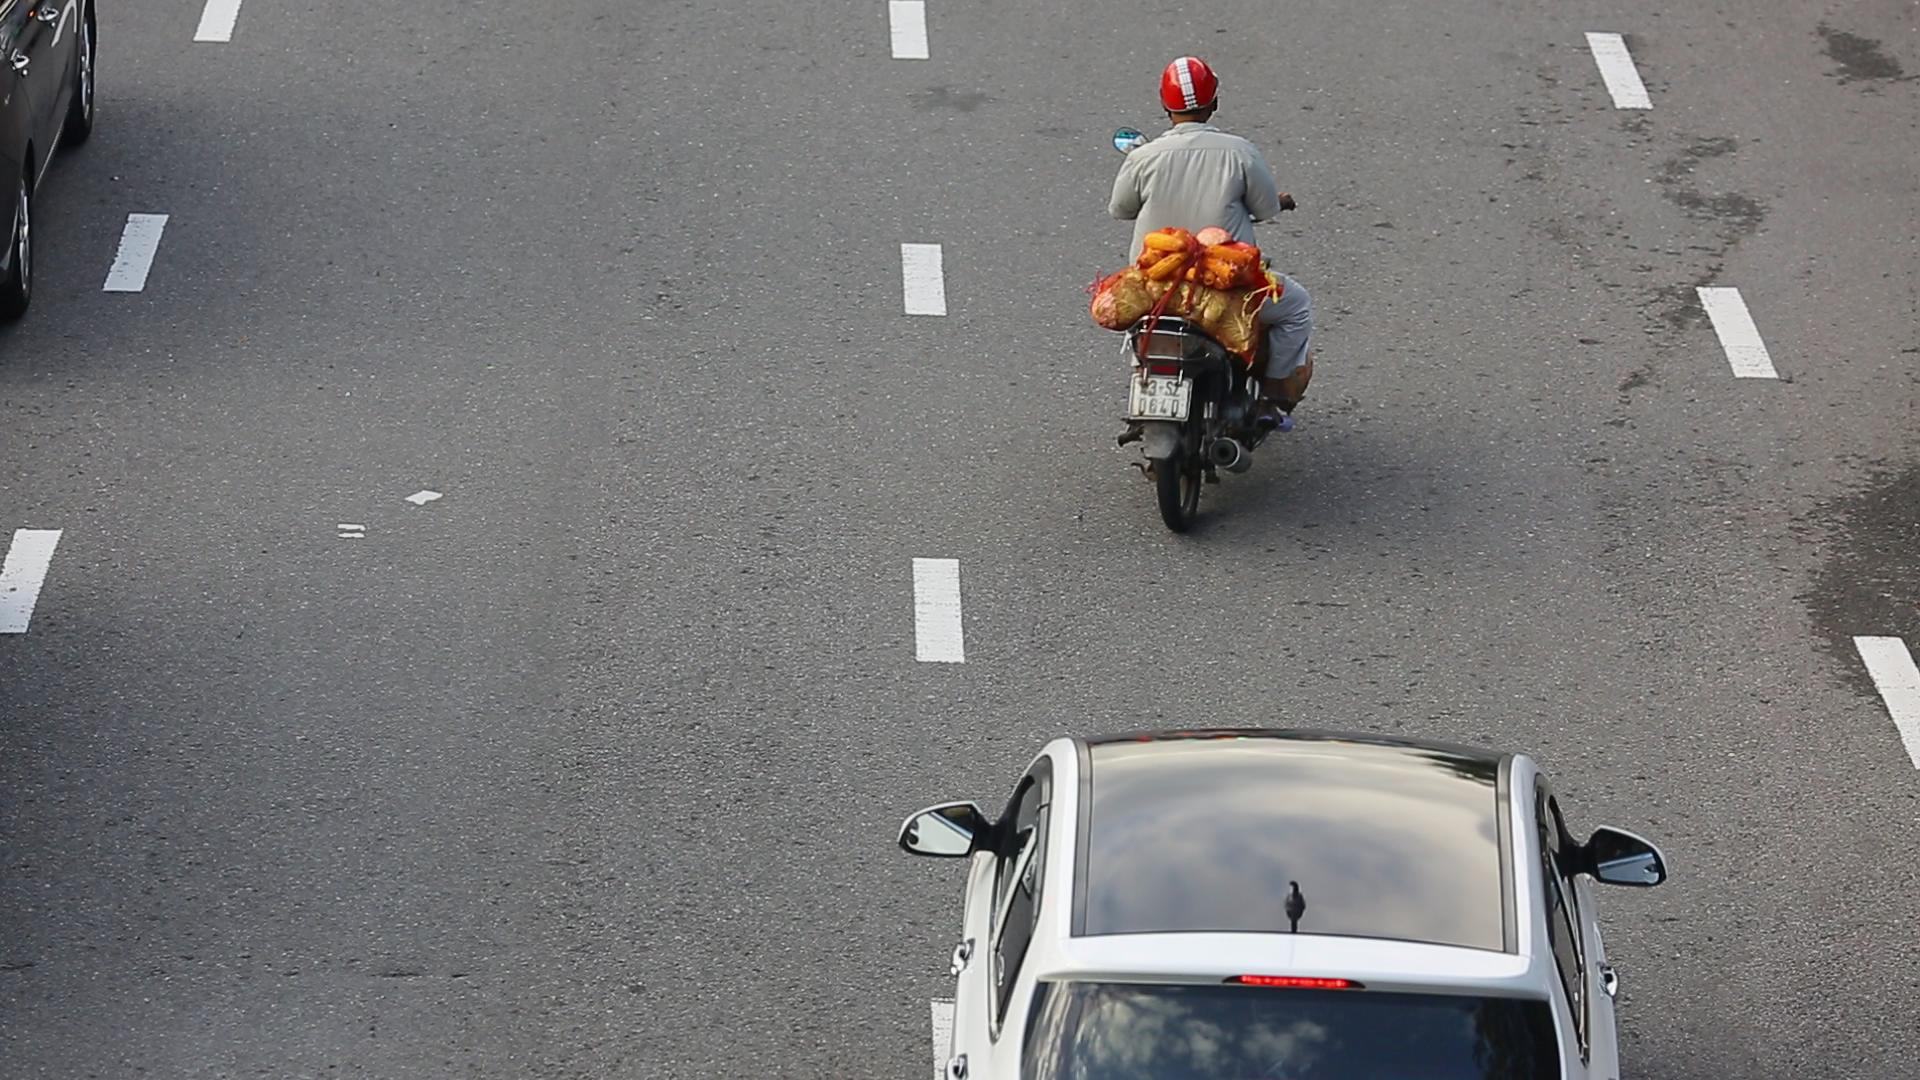motobike: (1087, 46, 1331, 550)
